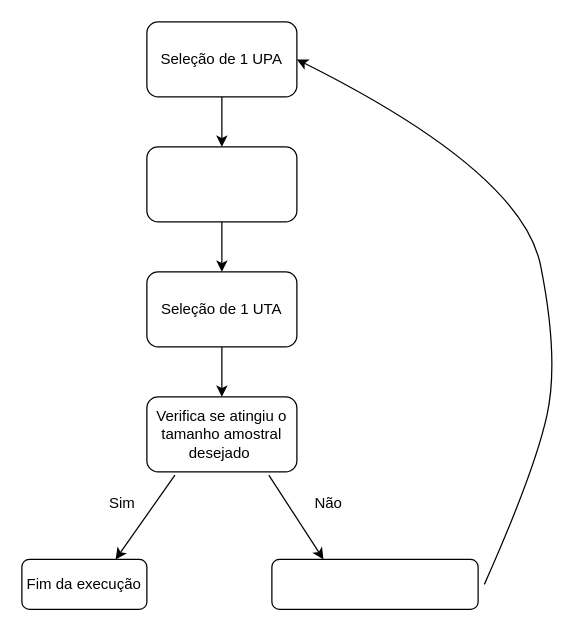
This 574x631 diagram has some shape labels left out. Each missing label, with the centre of its shape:
"Remoção da UTA já selecionada" goes at (x=374, y=583).
"Seleção de 1 USA" goes at (x=221, y=184).
